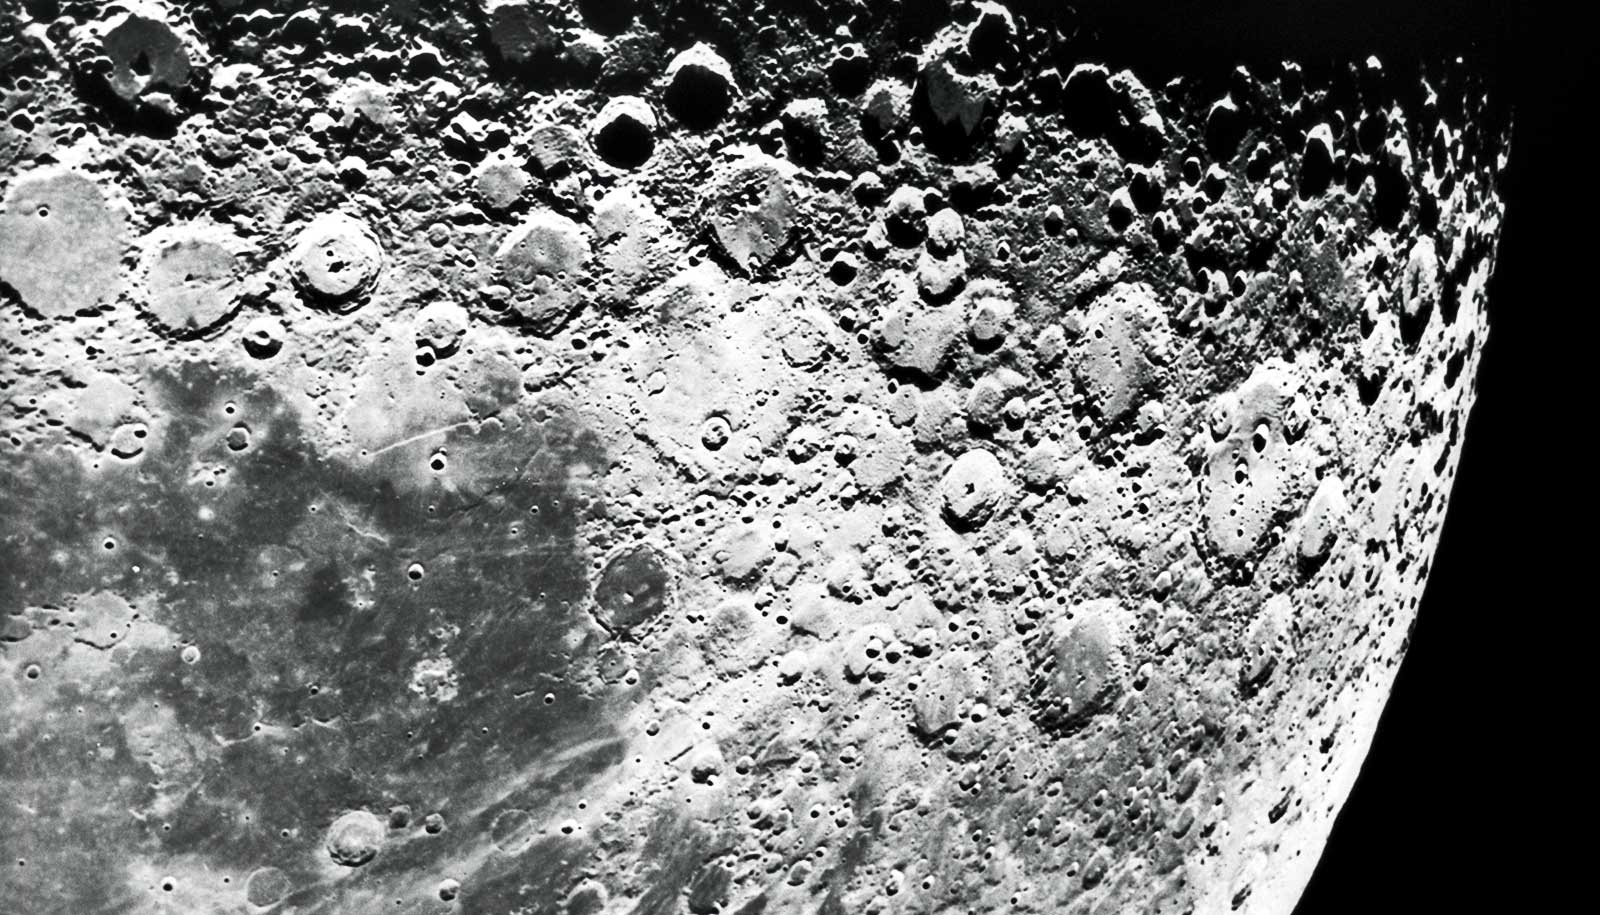crater: (268, 188, 405, 332), (558, 518, 690, 656), (155, 612, 236, 694), (377, 528, 465, 600), (415, 440, 462, 486), (1243, 405, 1276, 468)
